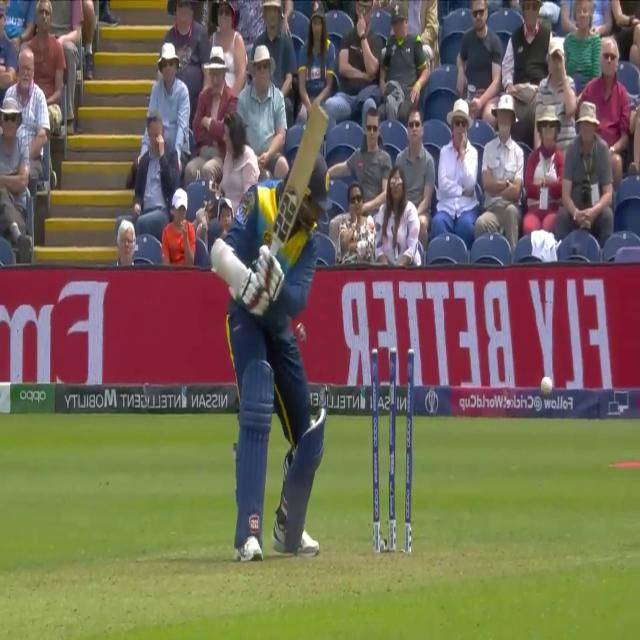ball: (536, 376, 552, 403)
